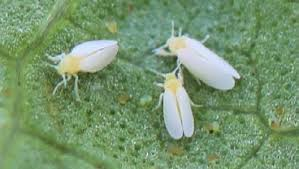Tobacco Whitefly: (164, 30, 244, 93), (151, 66, 198, 142), (53, 34, 108, 92)
